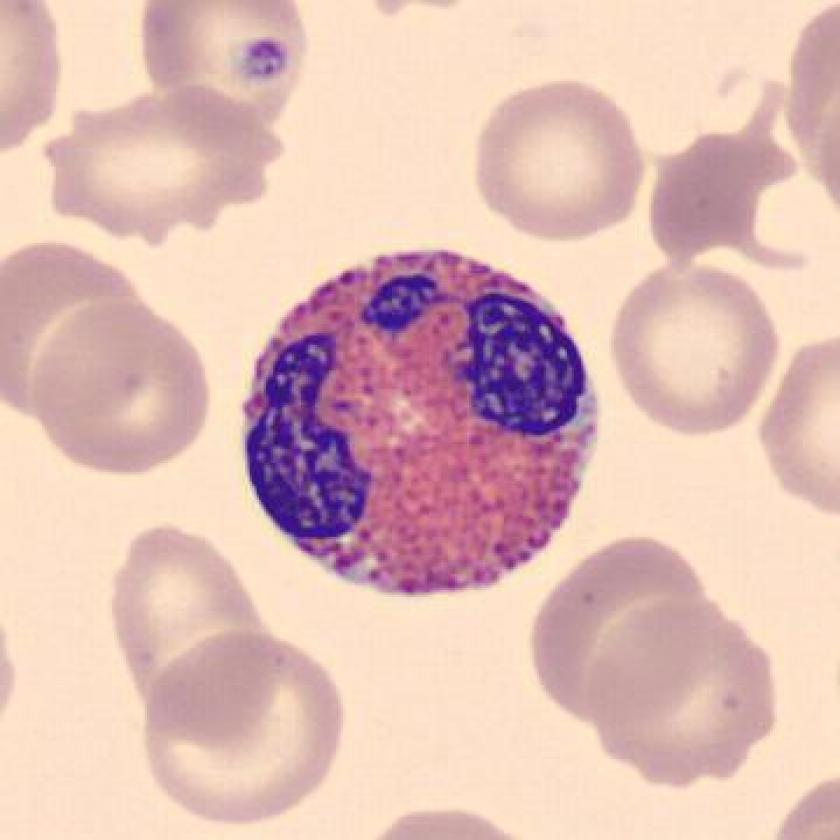eosinophil: (235, 235, 613, 603)
